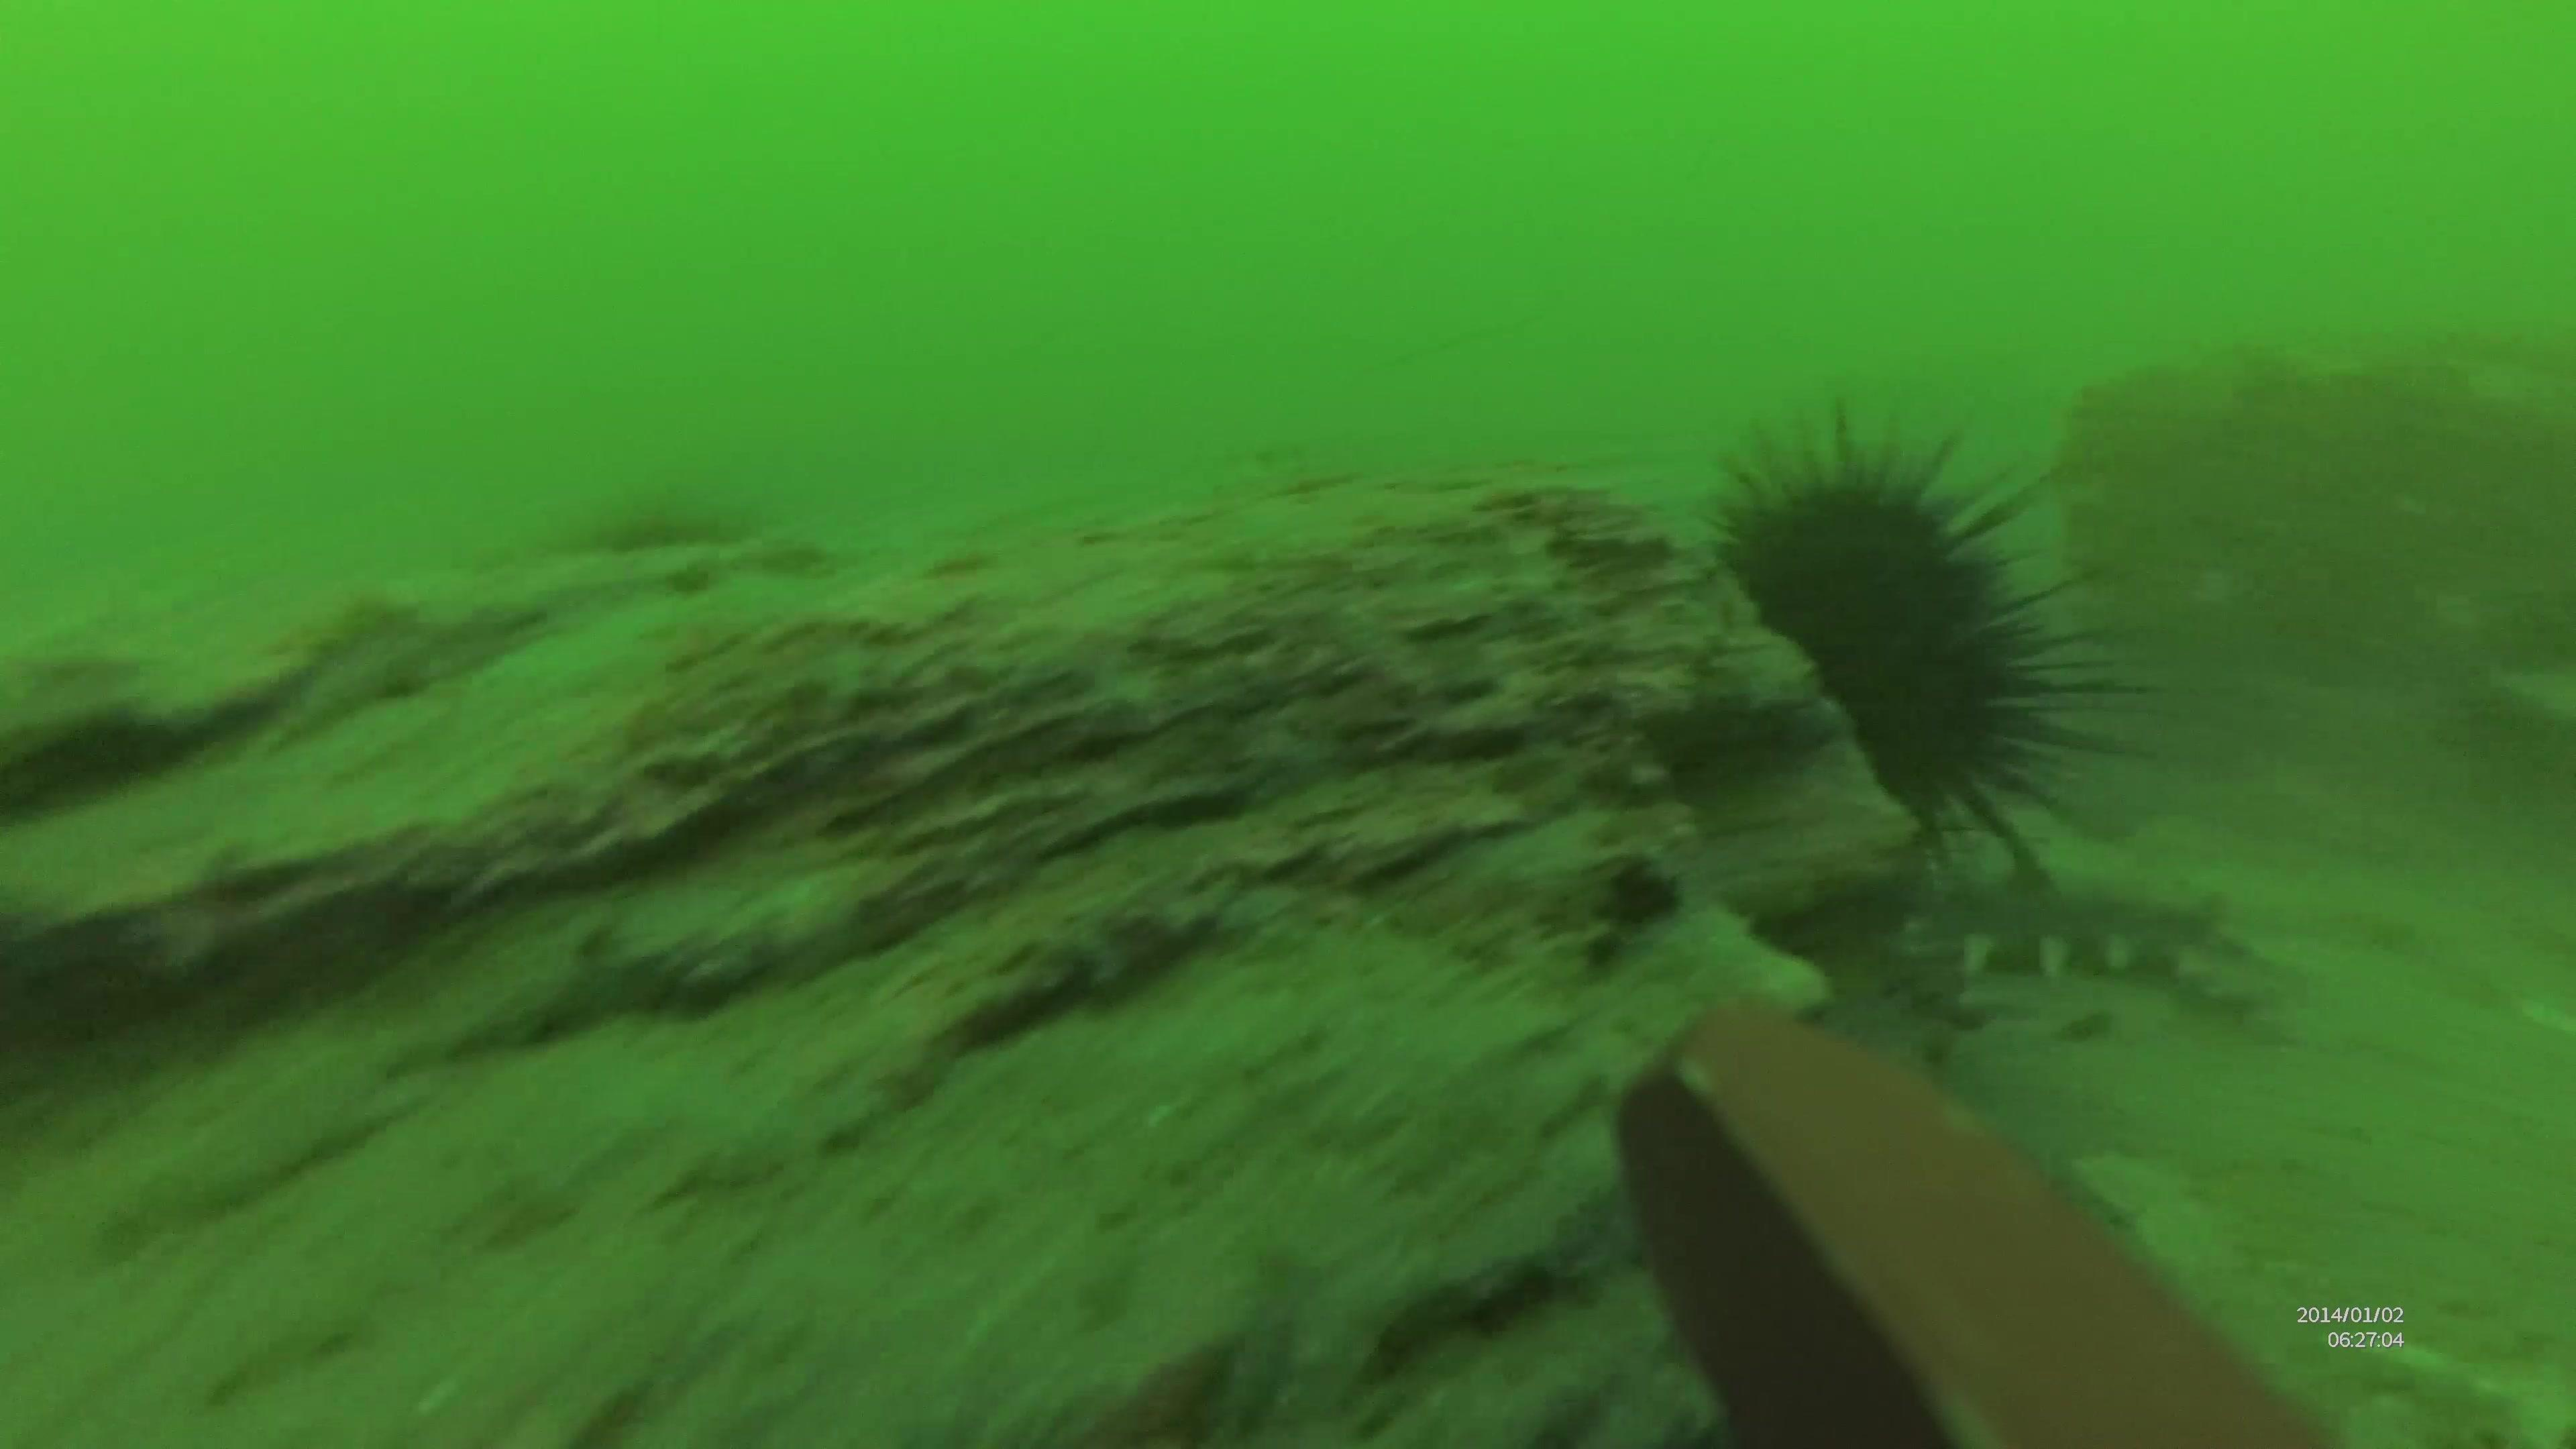echinus: (1686, 393, 2158, 895)
holothurian: (1743, 872, 2243, 987)
